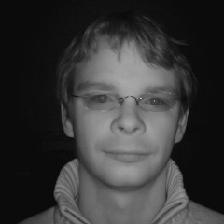normal: (54, 14, 198, 192)
